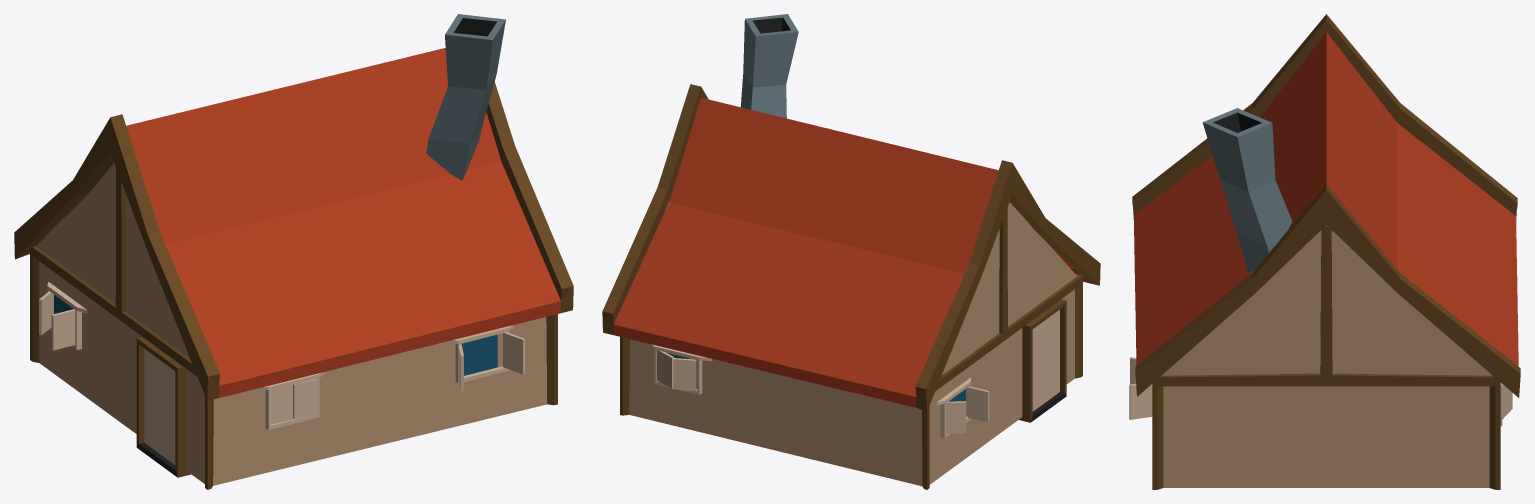
Rendered from House1_2.fbx.
3 views of the same model, side by side, from view 1: azimuth 30°, elevation 25°; view 2: azimuth 150°, elevation 25°; view 3: azimuth 270°, elevation 25° (orthographic). The views are drawn at different scales.
Visible parts, largest first — view 1: Cube.012; view 2: Cube.012; view 3: Cube.012.
Boxes of the visible parts, x1,y1,x2,y2 form: Cube.012: (14, 14, 573, 489); Cube.012: (602, 14, 1100, 489); Cube.012: (1129, 14, 1520, 489).
Size of the model in its own units: 762 by 682 by 686.
